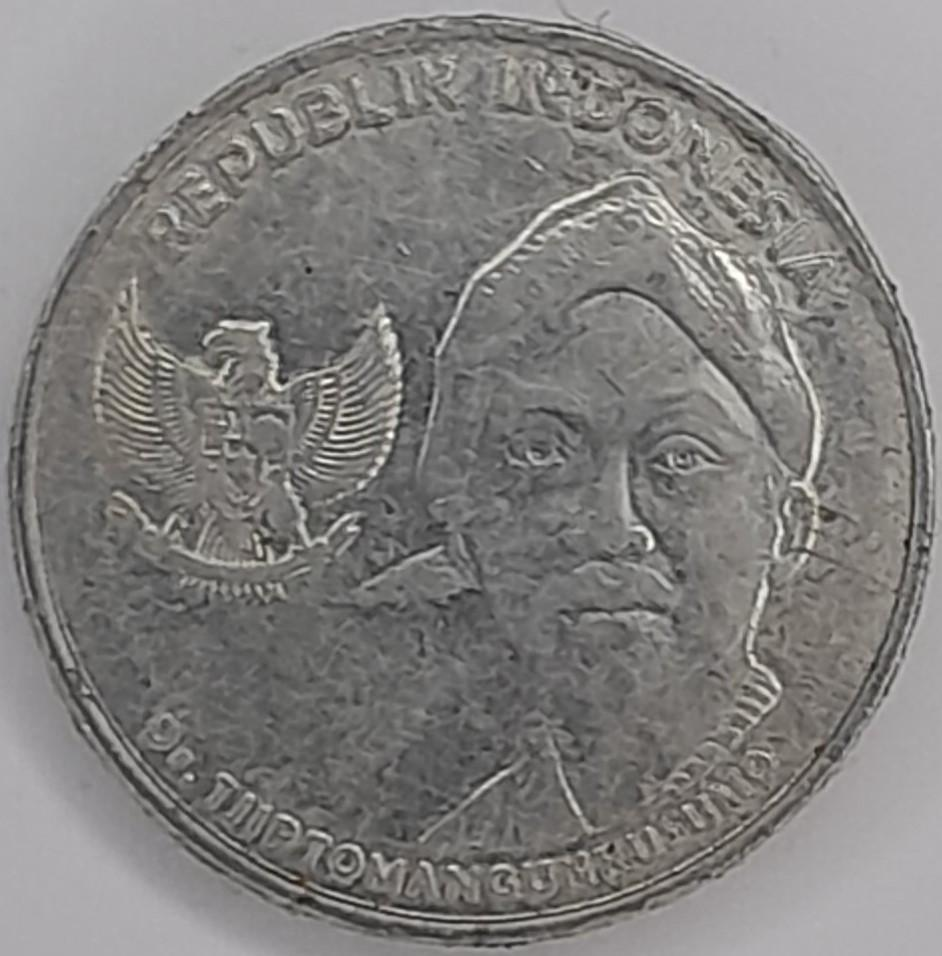coin_200_e2016: (0, 17, 942, 956)
